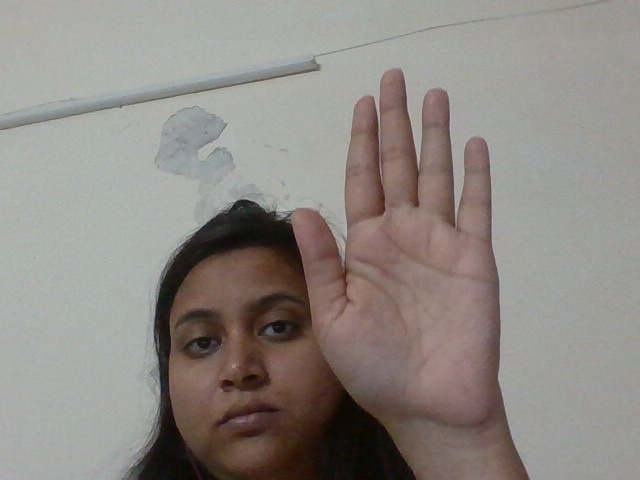pause: (285, 51, 508, 430)
